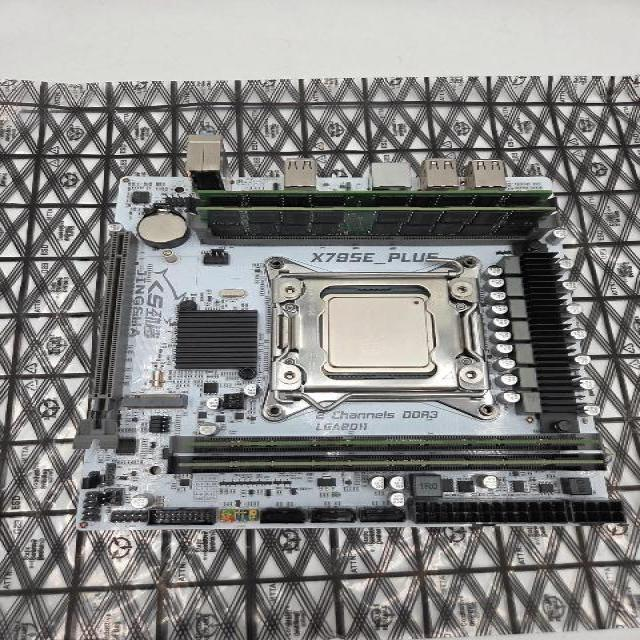CPU: (321, 292, 436, 374)
RAM: (195, 206, 556, 237), (196, 190, 552, 207)
